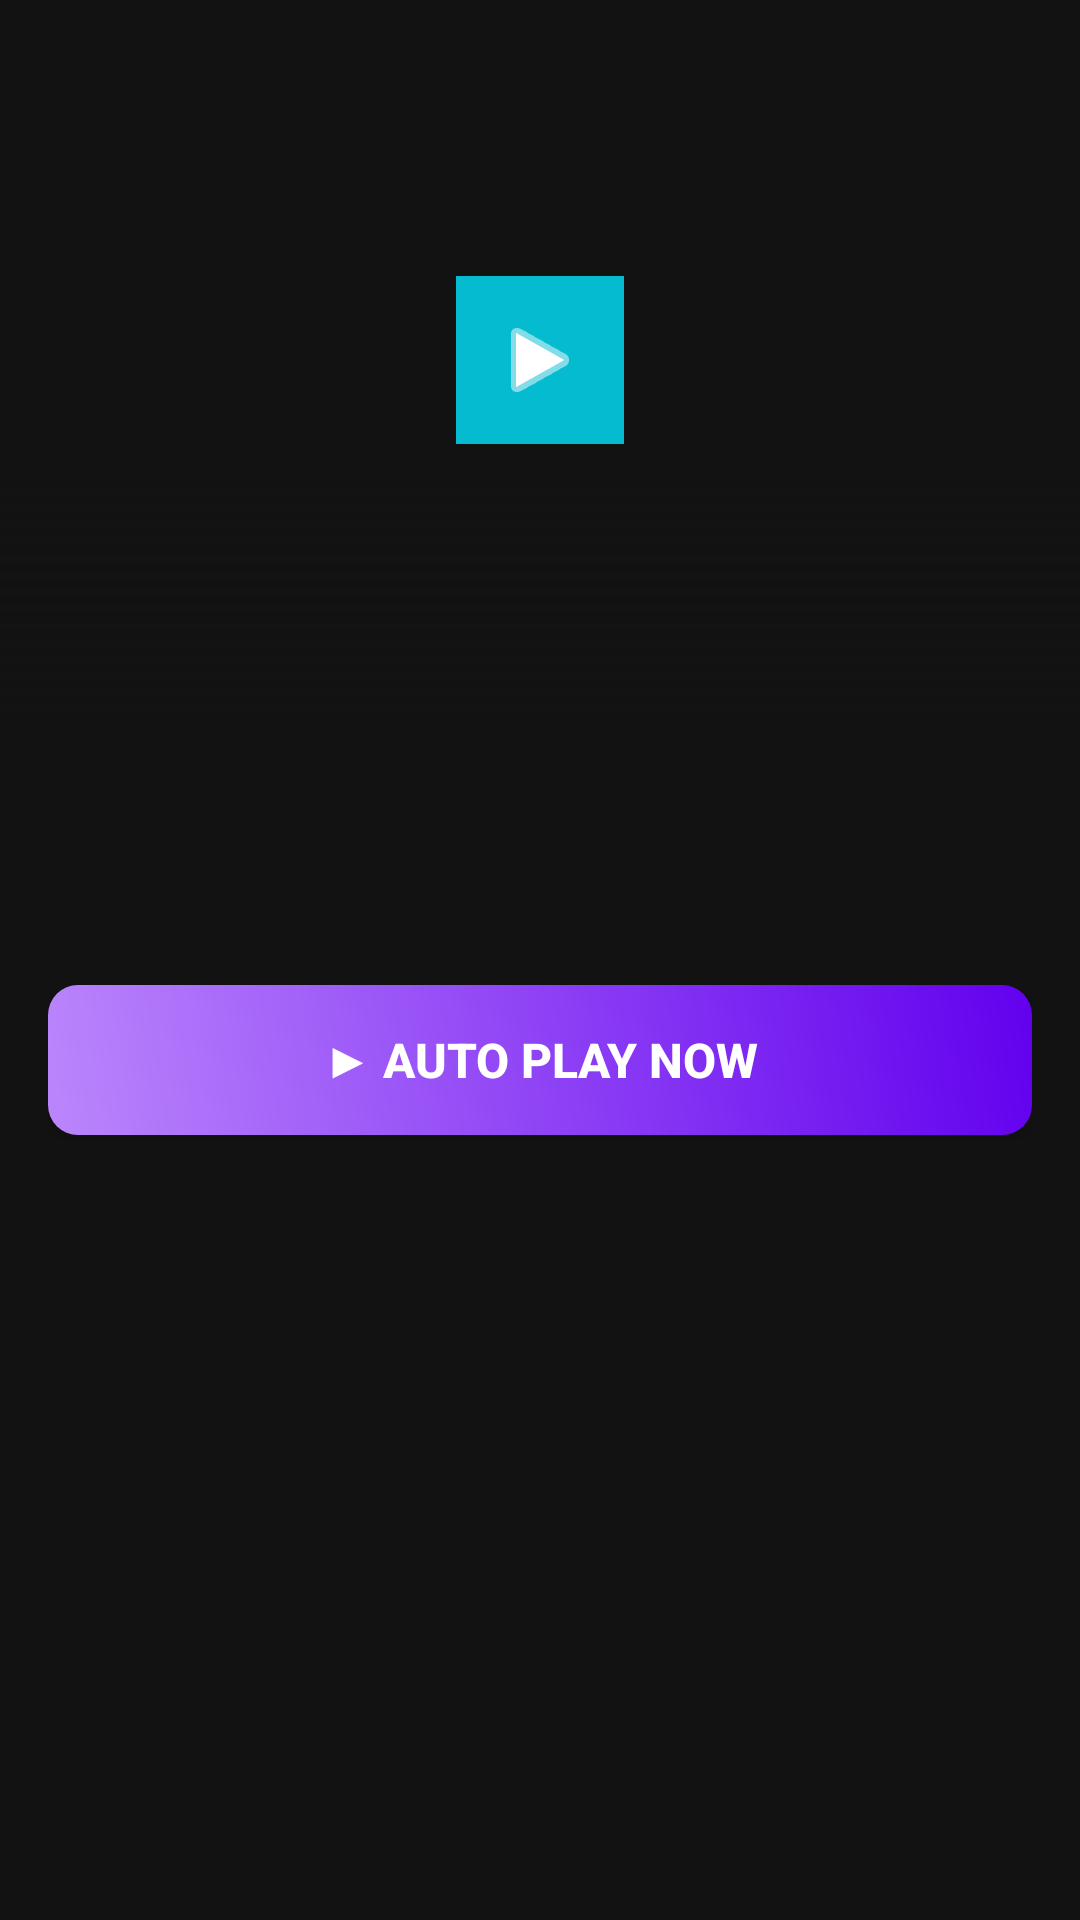

Screen size 1080 × 1920. Icon name, then its center in pixels as (x=x, y=y):
Play: (x=540, y=360)
